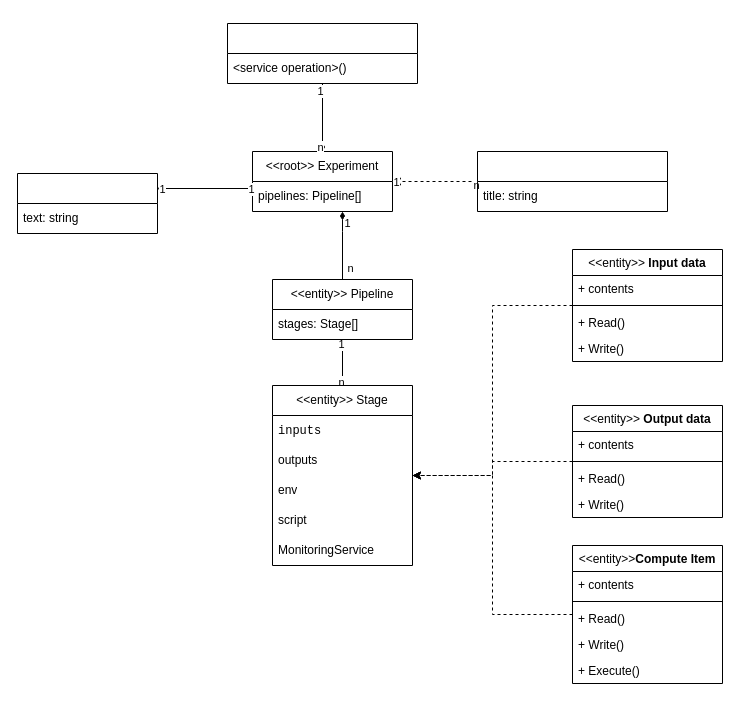
The diagram is 740 pixels wide and 704 high, and some of its shapes have lost their labels. Each missing label, with the box of its shape:
<<repository>> Monitoring Service Repository: (226, 22, 418, 84)
<<root>> ExecutionOrderTree: (476, 150, 668, 212)
<<root>> ExperimentFile: (16, 172, 158, 234)
